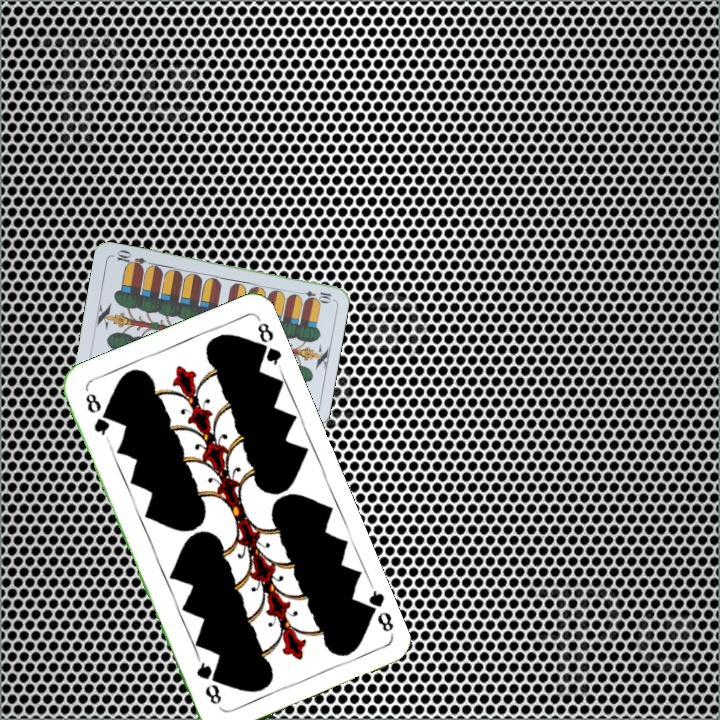E10: (293, 286, 334, 303)
G8: (359, 582, 397, 639), (81, 389, 113, 443)
